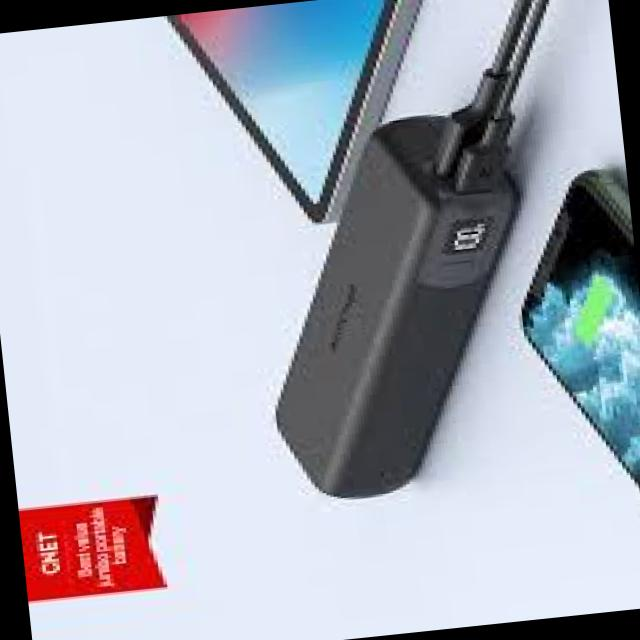portable-charger: (236, 101, 546, 506)
